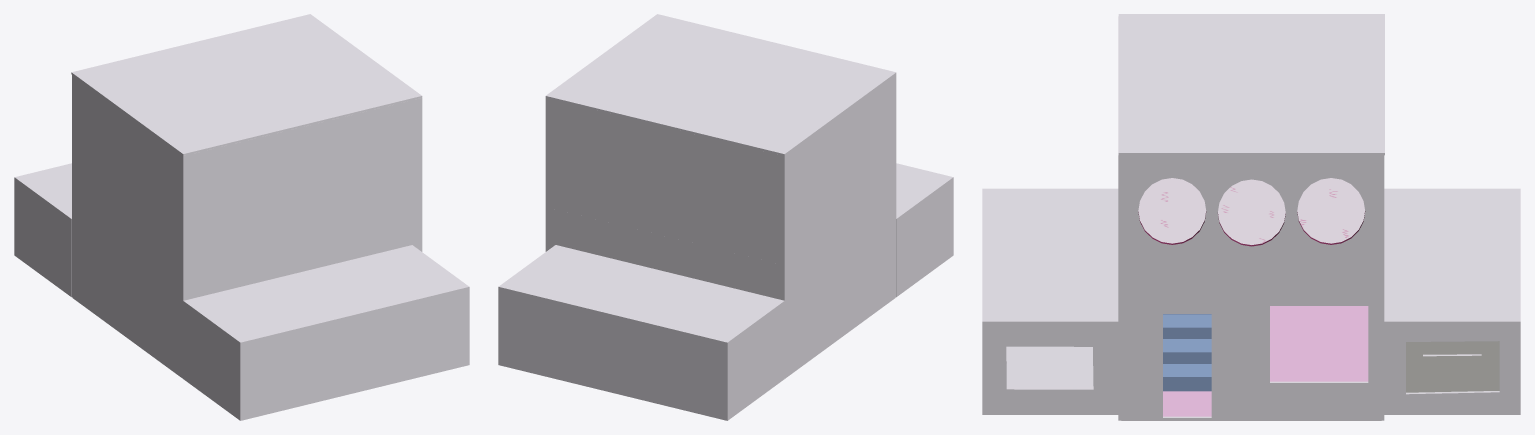
The model's file is casaChicas.obj.
The picture shows the model from 3 angles, left to right: view 1: azimuth 30°, elevation 25°; view 2: azimuth 150°, elevation 25°; view 3: azimuth 270°, elevation 25°; orthographic projection. The views are drawn at different scales.
Parts seen in each view (by area): view 1: polySurface45; view 2: polySurface45; view 3: polySurface45.
Boxes of the visible parts, x1=… form: polySurface45: x1=14, y1=14, x2=469, y2=420; polySurface45: x1=498, y1=14, x2=953, y2=420; polySurface45: x1=982, y1=14, x2=1520, y2=420.
Bounding box in the file's own units: 29.12 × 26.24 × 47.67.
